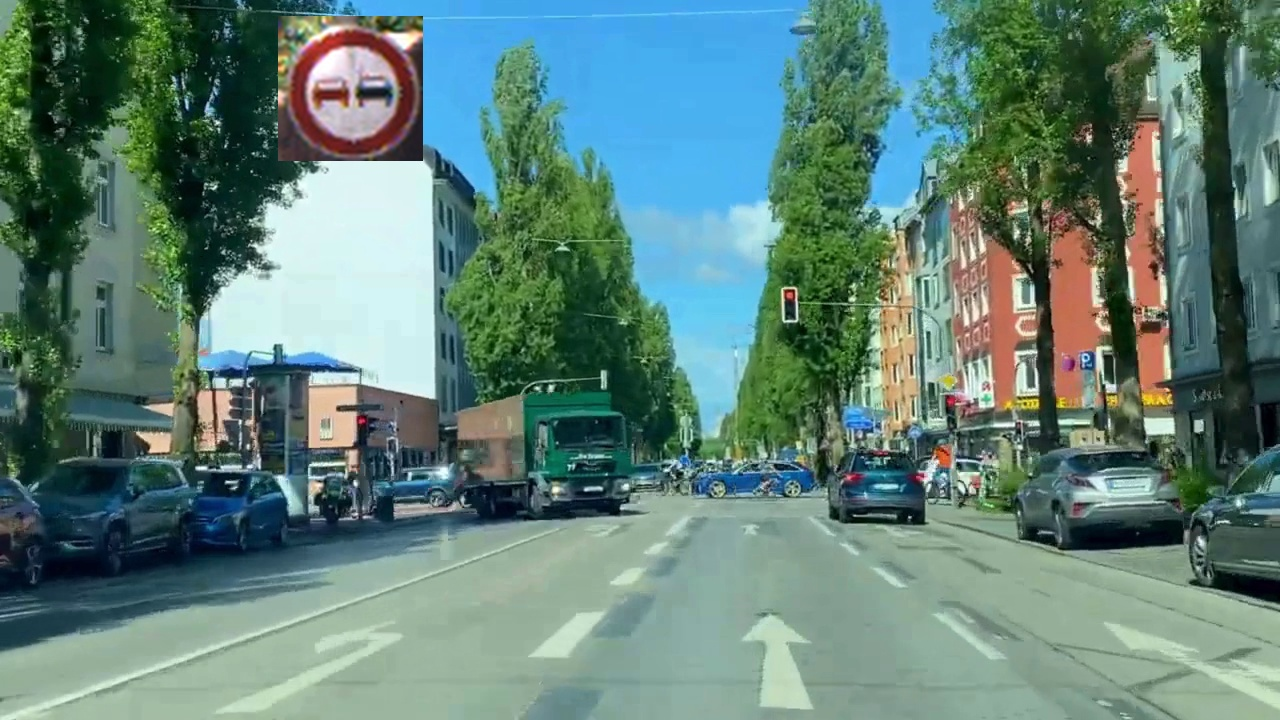No passing: (278, 16, 423, 161)
